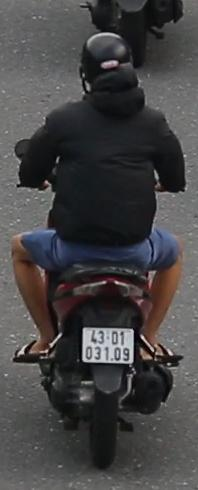LP: (78, 326, 136, 369)
helmet: (77, 29, 134, 105)
